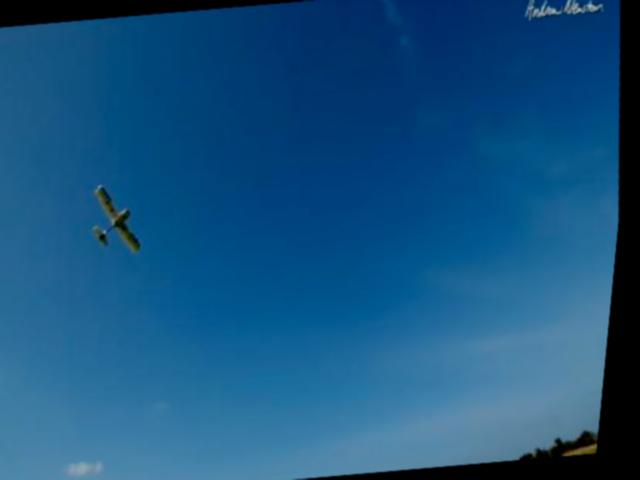uav: (81, 172, 158, 262)
